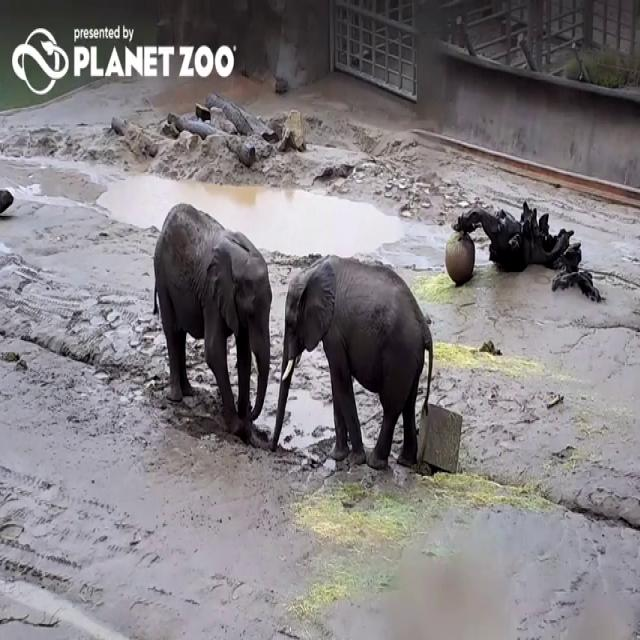Elephant: (269, 253, 433, 470), (152, 202, 272, 442)
